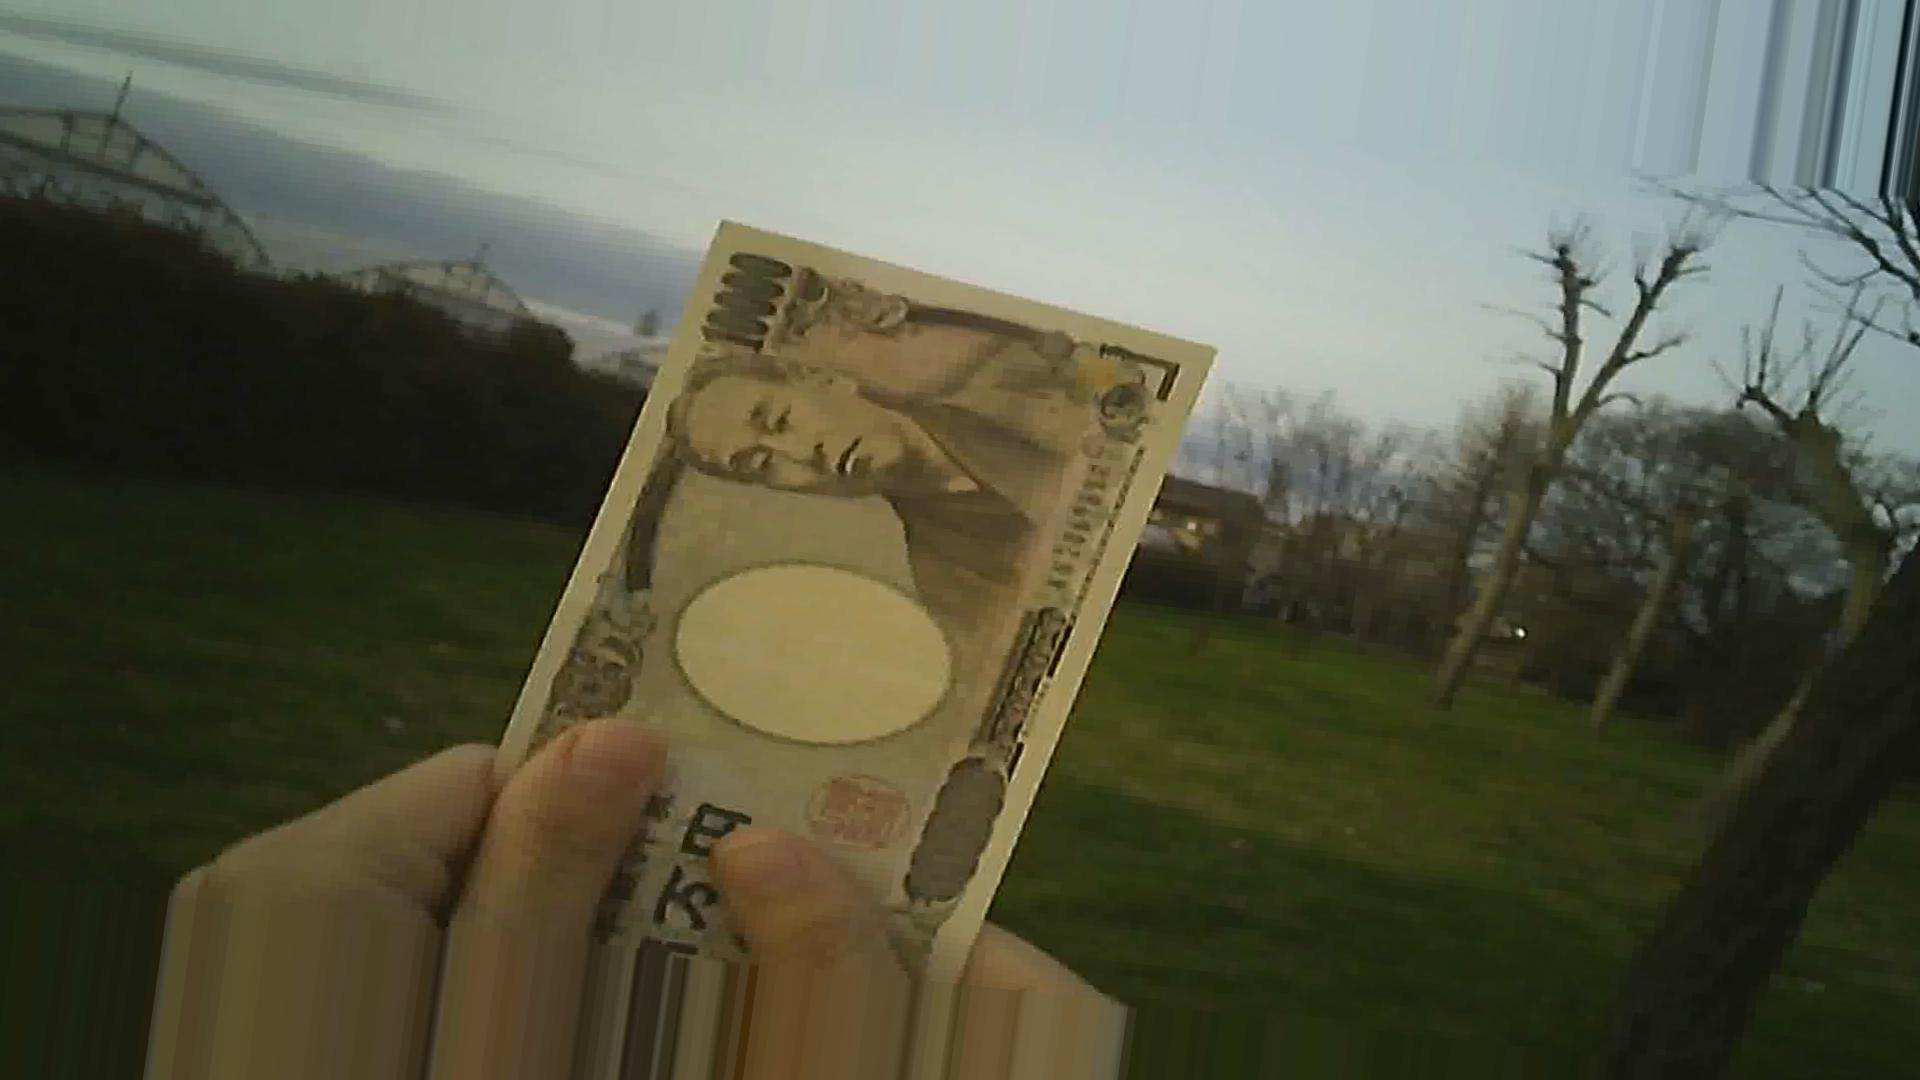10,000 Yen: (483, 175, 1218, 992)
